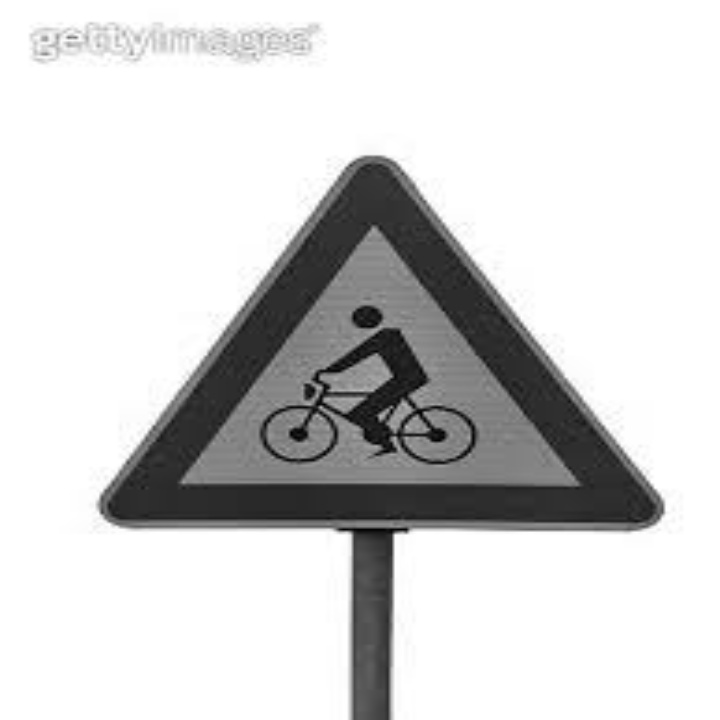bicycle: (265, 354, 495, 473)
